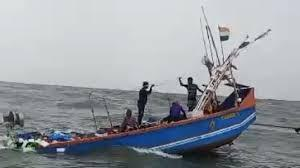fishing boat: (5, 5, 257, 163)
